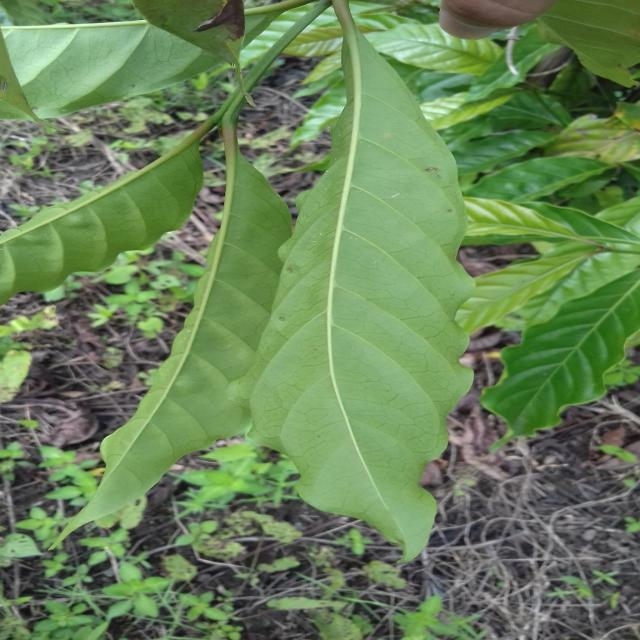Sanas: (248, 0, 474, 567)
